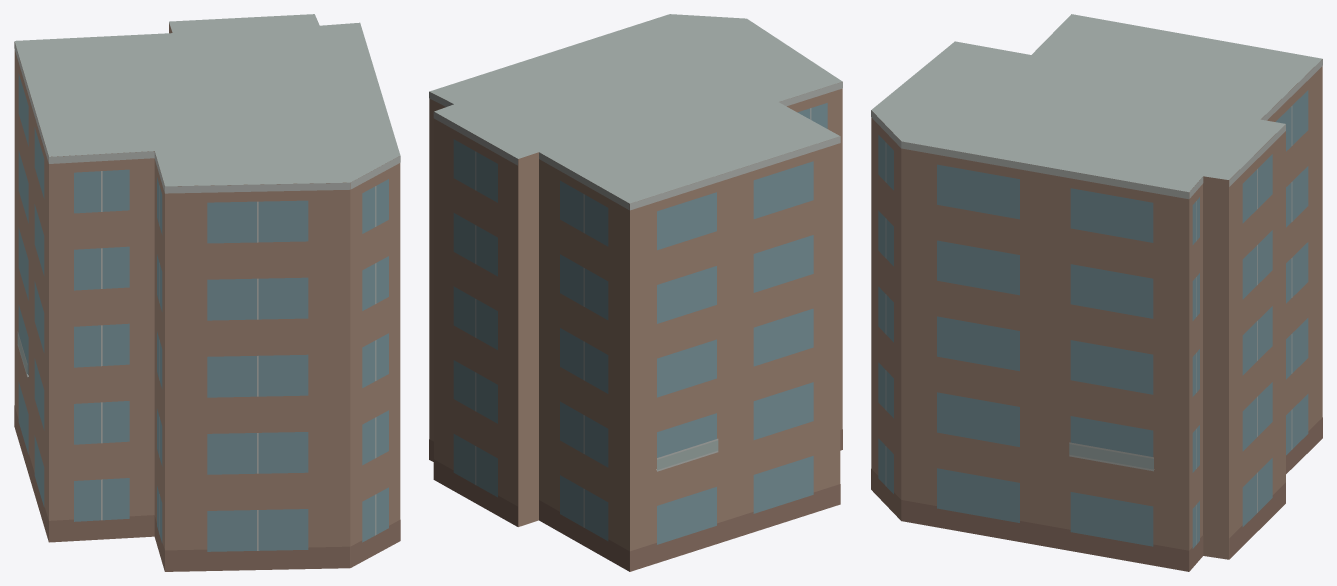
Rendered from survey-upis-32989598.glb.
3 views of the same model, side by side, from view 1: azimuth 30°, elevation 25°; view 2: azimuth 150°, elevation 25°; view 3: azimuth 270°, elevation 25° (orthographic). The views are drawn at different scales.
Parts seen in each view (by area): view 1: survey-upis-32989598.tmp; view 2: survey-upis-32989598.tmp; view 3: survey-upis-32989598.tmp.
Boxes of the visible parts, box(x1,y1,x2,y2) form: survey-upis-32989598.tmp: box(14, 14, 400, 571); survey-upis-32989598.tmp: box(429, 14, 842, 571); survey-upis-32989598.tmp: box(871, 14, 1322, 571).
Bounding box in the file's own units: 13.2 × 13.1 × 14.13.
